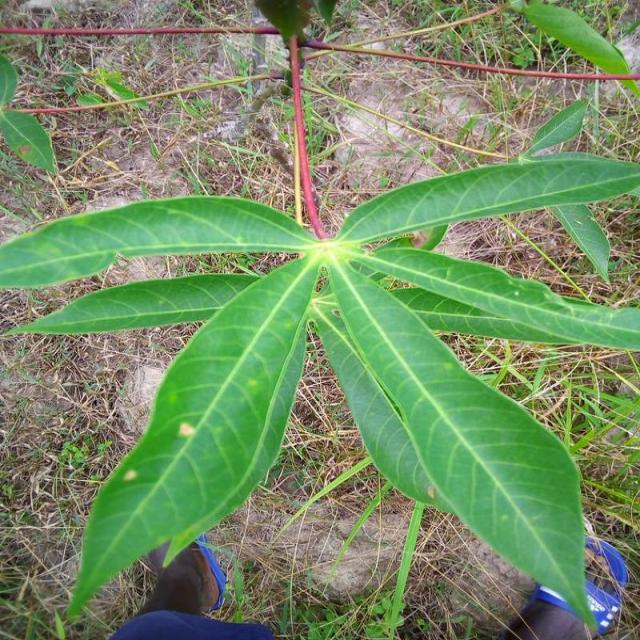cassava leaf: (1, 16, 638, 635), (320, 252, 598, 634), (64, 248, 321, 623)
